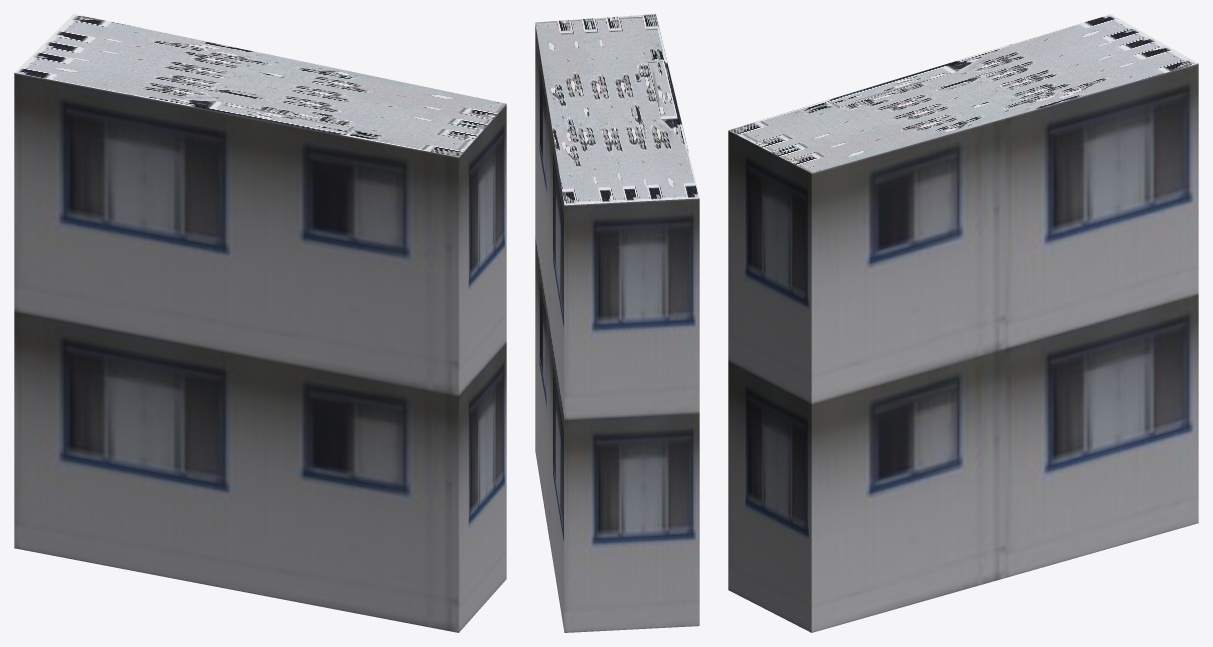
Rendered from ResTex__1578.fbx.
3 views of the same model, side by side, from view 1: azimuth 30°, elevation 25°; view 2: azimuth 150°, elevation 25°; view 3: azimuth 270°, elevation 25° (orthographic). The views are drawn at different scales.
Parts seen in each view (by area): view 1: CityEngineMaterial_9_m, CityEngineMaterial_8_m; view 2: CityEngineMaterial_9_m, CityEngineMaterial_8_m; view 3: CityEngineMaterial_9_m, CityEngineMaterial_8_m.
Boxes of the visible parts, bbox=[...] form: CityEngineMaterial_9_m: bbox=[14, 73, 506, 632]; CityEngineMaterial_8_m: bbox=[14, 14, 506, 157]; CityEngineMaterial_9_m: bbox=[535, 24, 699, 632]; CityEngineMaterial_8_m: bbox=[535, 14, 699, 205]; CityEngineMaterial_9_m: bbox=[728, 63, 1198, 632]; CityEngineMaterial_8_m: bbox=[728, 14, 1198, 173].
Size of the model in its own units: 4.46 by 6 by 5.57.
Materials: 2 (2 with a texture image).
